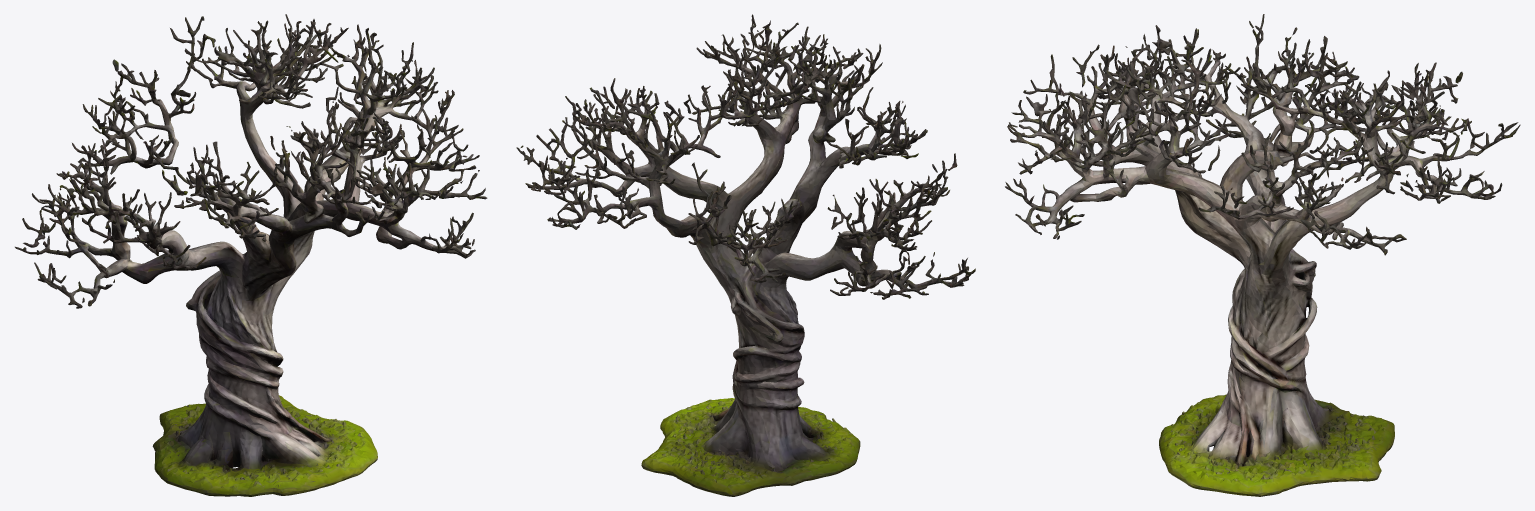
File: nature_dead_tree_03.glb
The picture shows the model from 3 angles, left to right: view 1: azimuth 30°, elevation 25°; view 2: azimuth 150°, elevation 25°; view 3: azimuth 270°, elevation 25°; orthographic projection. The views are drawn at different scales.
Parts seen in each view (by area): view 1: geometry_0; view 2: geometry_0; view 3: geometry_0.
Boxes of the visible parts, x1,y1,x2,y2 form: geometry_0: (15,14,487,496); geometry_0: (516,14,975,496); geometry_0: (1005,14,1520,496).
Size of the model in its own units: 1 by 0.8578 by 0.9936.
1 material, 1 textured.
